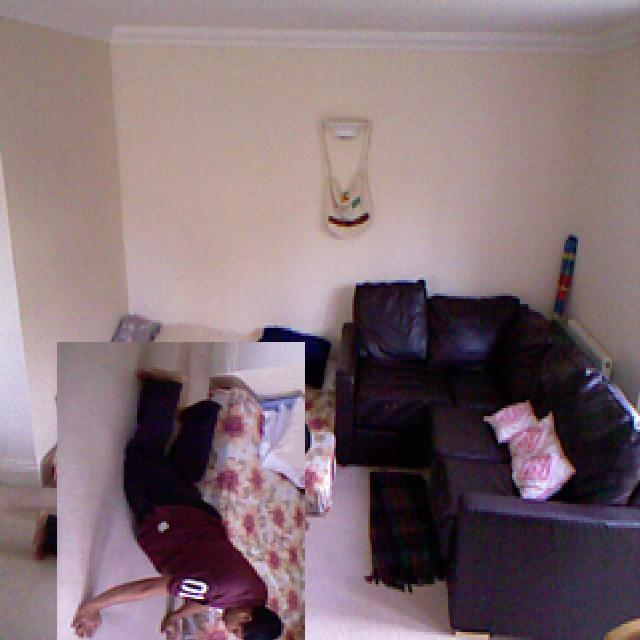Fall: (82, 321, 295, 640)
